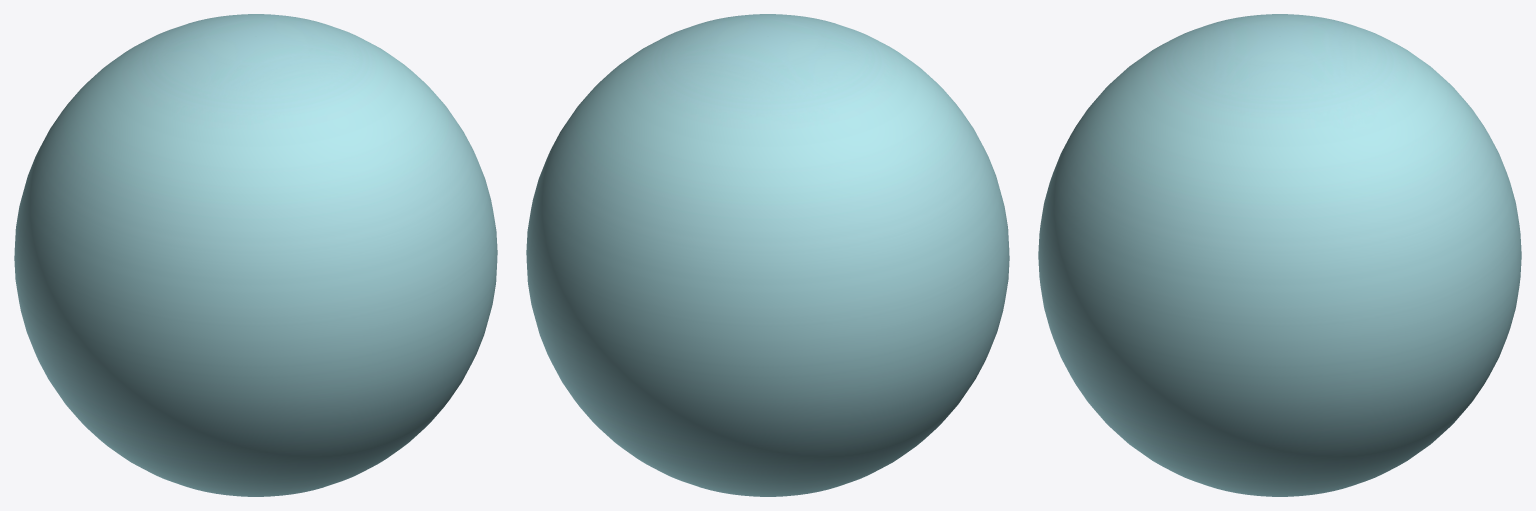
File: uranus.glb
3 views of the same model, side by side, from view 1: azimuth 30°, elevation 25°; view 2: azimuth 150°, elevation 25°; view 3: azimuth 270°, elevation 25° (orthographic).
Visible parts, largest first — view 1: Uranus; view 2: Uranus; view 3: Uranus.
Boxes of the visible parts, x1,y1,x2,y2 form: Uranus: (14,14,497,496); Uranus: (526,14,1009,496); Uranus: (1038,14,1521,496).
Size of the model in its own units: 2 by 2 by 2.
1 material, 1 textured.
